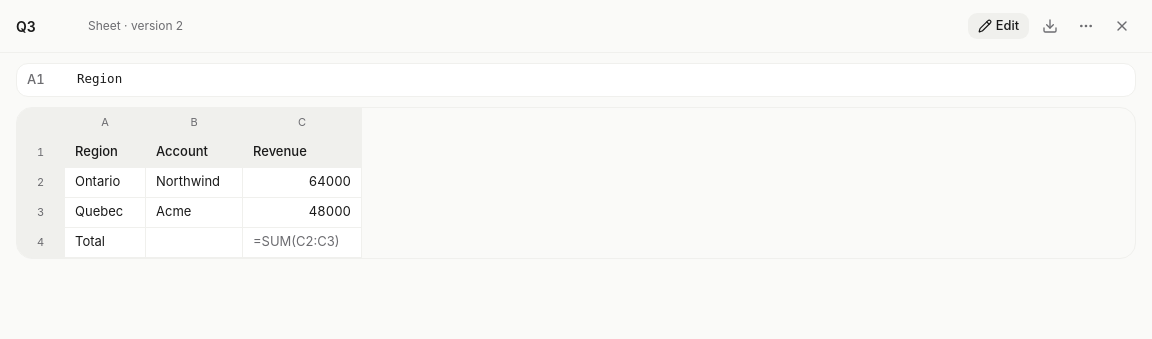
Test case: shows the selection's sum, count and average in the inspector while editing
This screenshot has width=1152, height=339.
Click the button with test id "editor-edit".
click(998, 26)  # box [967,12,1030,40]
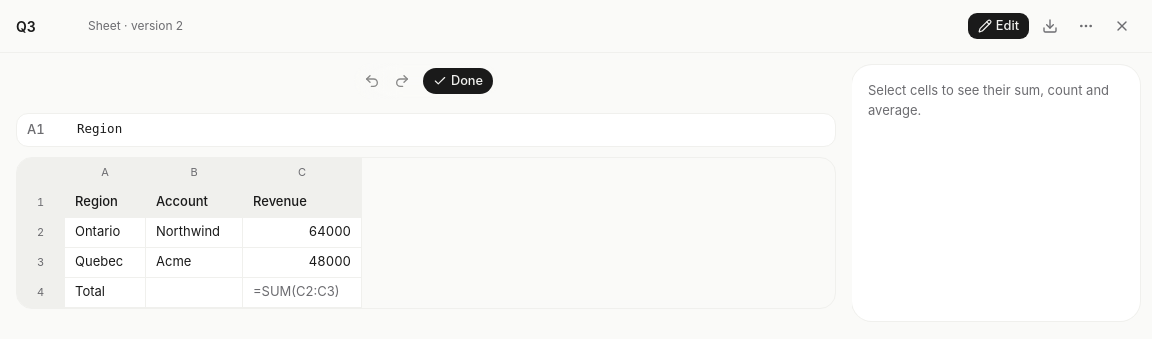
Now the element with test id "sheet-inspector" shows "Select cells", box [868,82,1109,118]
Press the mouse on the cell "Northwind" at (194, 232), box [146,218,243,248]
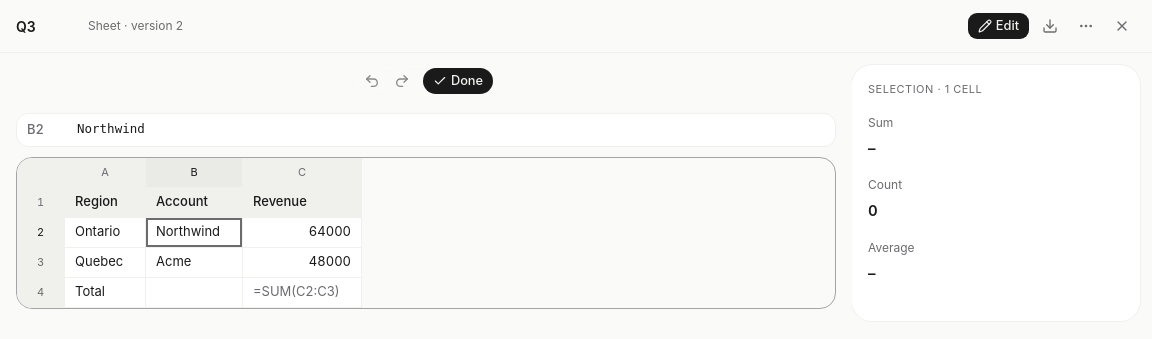
Press the mouse on the cell "48000" at (302, 262), box [243,248,362,278]
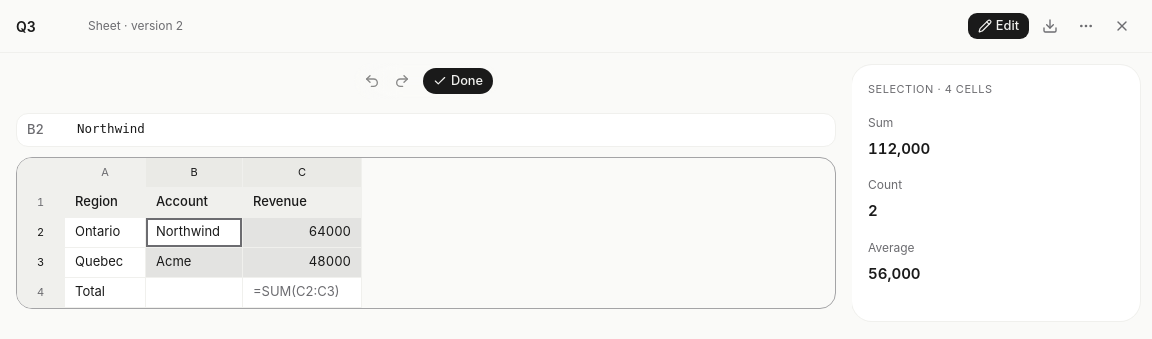
Now the element with test id "sheet-inspector" shows "Selection · 4 cells", box [868,82,992,96]
